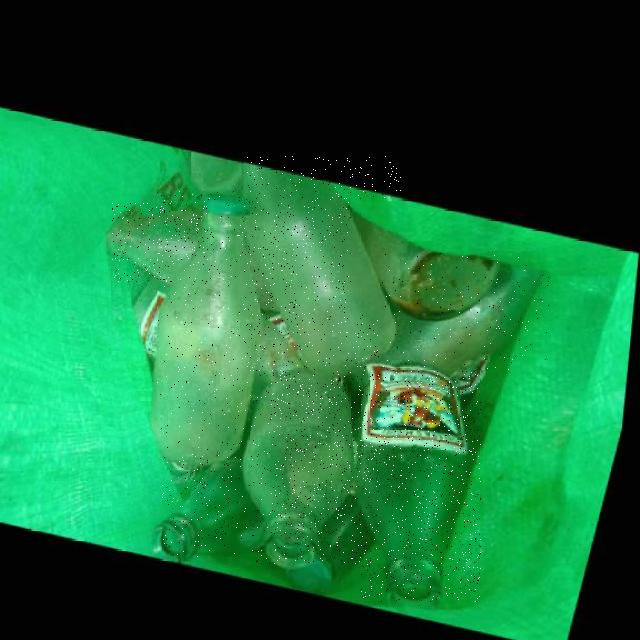glass: (244, 157, 403, 371), (158, 190, 268, 462), (362, 356, 481, 602), (252, 363, 364, 564), (380, 254, 549, 371), (352, 200, 518, 315), (163, 451, 275, 558), (111, 202, 208, 282)
